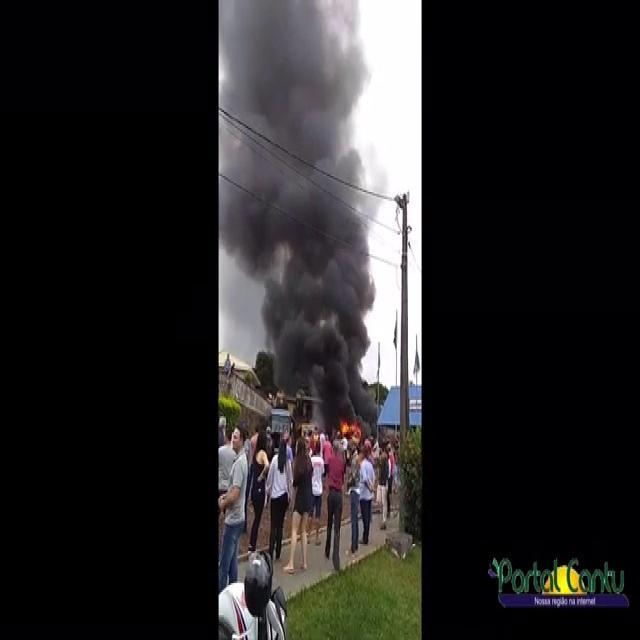Fire: (340, 422, 366, 440)
Smoke: (219, 0, 385, 424)
